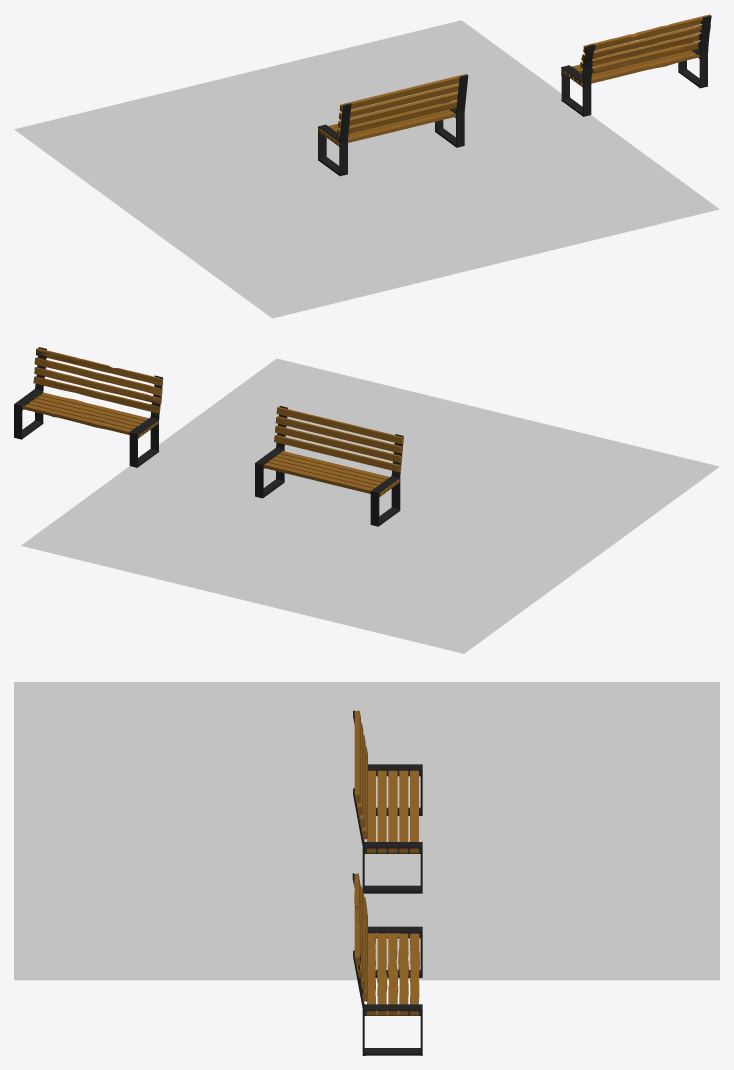
File: Bank.fbx
3 renders of one model, top to bottom at view 1: azimuth 30°, elevation 25°; view 2: azimuth 150°, elevation 25°; view 3: azimuth 270°, elevation 25°, orthographic. The views are drawn at different scales.
Visible parts, largest first — view 1: Plane, Cube, PM3D_Cube_19; view 2: Plane, Cube, PM3D_Cube_19; view 3: Plane, PM3D_Cube_19, Cube.
Part boxes in pixels (x1=…): Plane: x1=14, y1=20, x2=719, y2=318; Cube: x1=318, y1=74, x2=468, y2=176; PM3D_Cube_19: x1=561, y1=14, x2=711, y2=116; Plane: x1=21, y1=358, x2=719, y2=653; Cube: x1=255, y1=406, x2=403, y2=526; PM3D_Cube_19: x1=14, y1=347, x2=163, y2=467; Plane: x1=14, y1=682, x2=719, y2=980; PM3D_Cube_19: x1=352, y1=873, x2=422, y2=1055; Cube: x1=353, y1=710, x2=422, y2=893.
Bounding box in the file's own units: 2222 × 281 × 1762.
